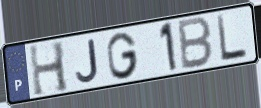1: (158, 20, 179, 75)
B: (177, 15, 215, 72)
G: (105, 30, 140, 81)
H: (27, 39, 71, 99)
J: (74, 37, 101, 85)
L: (215, 13, 250, 64)
